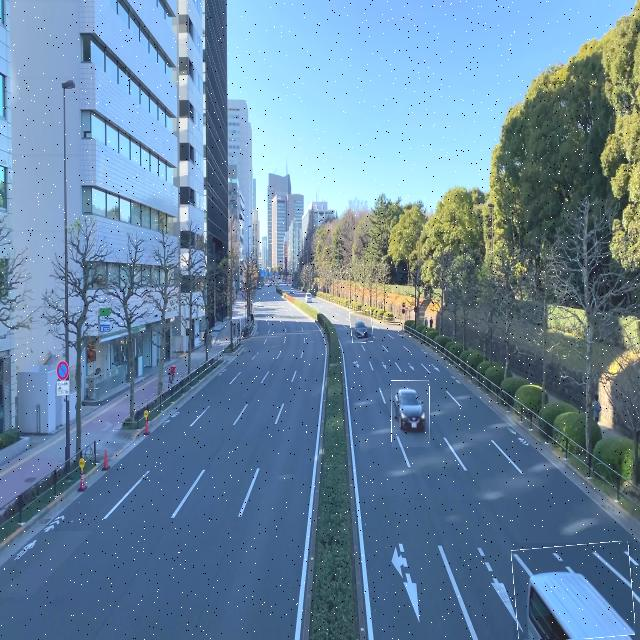Car: (513, 543, 633, 640), (392, 380, 430, 447), (350, 310, 373, 342)
